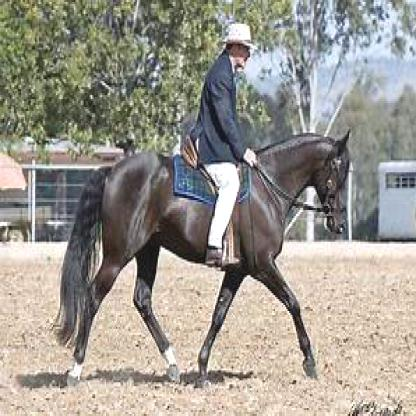horse: (56, 123, 356, 384)
